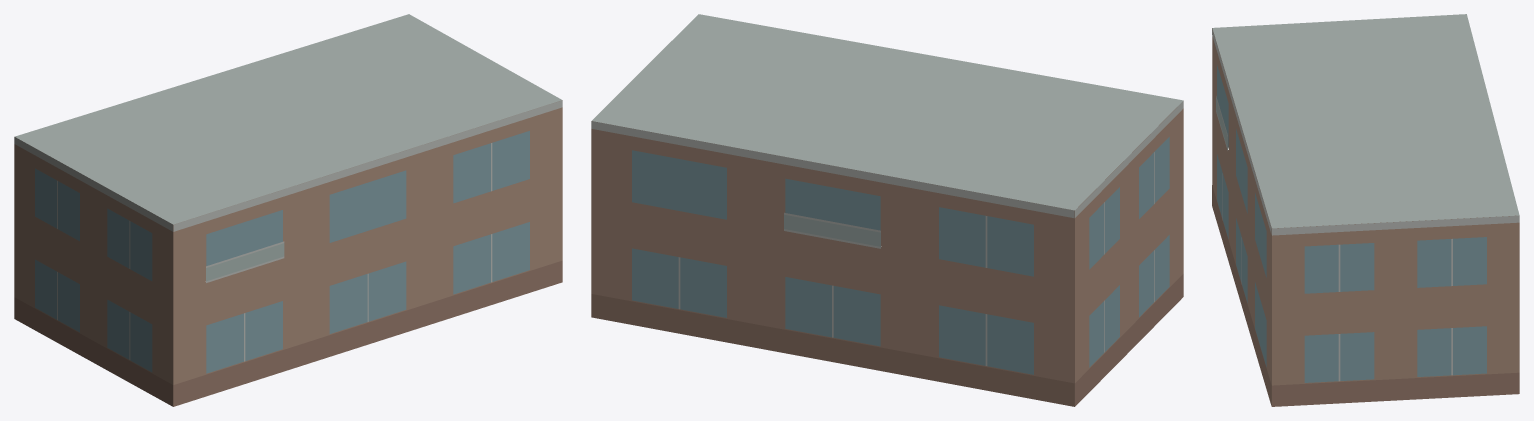
File: survey-upis-32717125.glb
3 views of the same model, side by side, from view 1: azimuth 30°, elevation 25°; view 2: azimuth 150°, elevation 25°; view 3: azimuth 270°, elevation 25° (orthographic). The views are drawn at different scales.
Visible parts, largest first — view 1: survey-upis-32717125.tmp; view 2: survey-upis-32717125.tmp; view 3: survey-upis-32717125.tmp.
Boxes of the visible parts, box(x1,y1,x2,y2) form: survey-upis-32717125.tmp: box(14, 14, 562, 406); survey-upis-32717125.tmp: box(591, 14, 1183, 406); survey-upis-32717125.tmp: box(1212, 14, 1519, 406).
Bounding box in the file's own units: 15.73 × 6.1 × 9.53.
